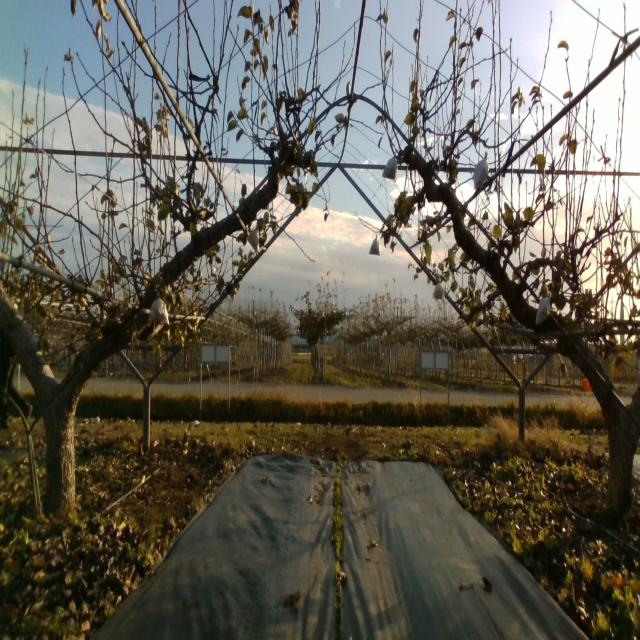pearbags: (148, 291, 170, 324), (473, 152, 489, 190), (535, 296, 550, 324), (246, 228, 262, 254), (382, 152, 397, 179), (368, 234, 381, 255), (432, 282, 446, 301)
